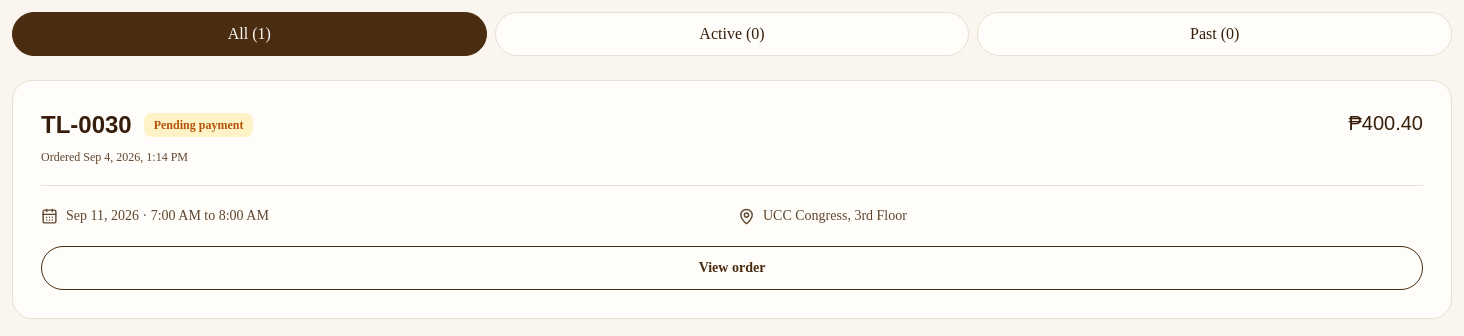
Test: OrdersList › uses pressed filter buttons and updates the visible order set
Click the button "Past (0)".
click(1215, 34)  # box [977,12,1452,56]
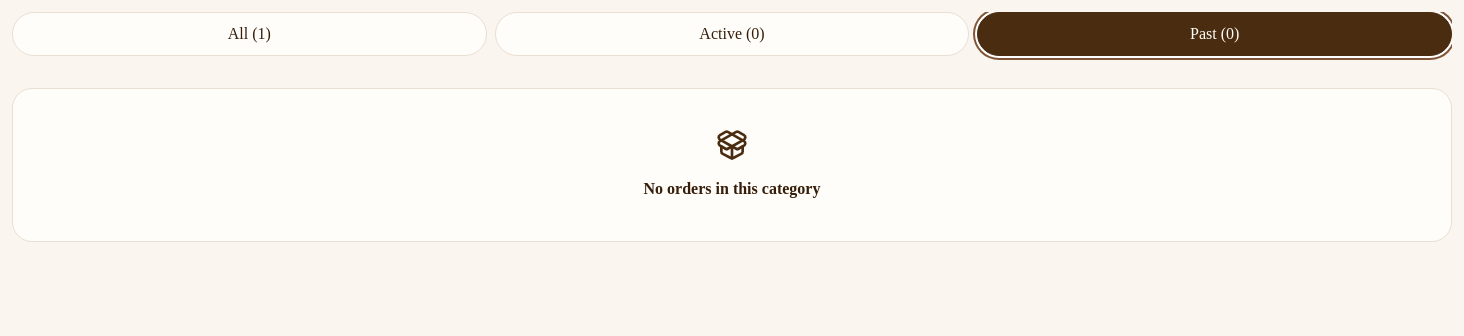
Check: the text "No orders in this category" is shown, box [644,180,820,197]
